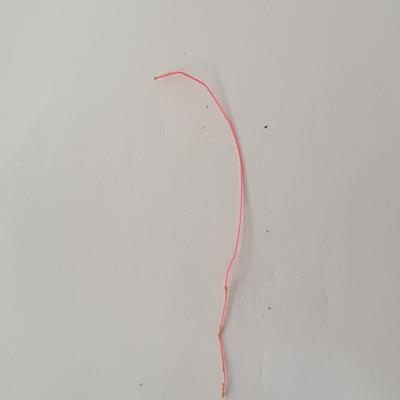thread: (146, 68, 253, 400)
